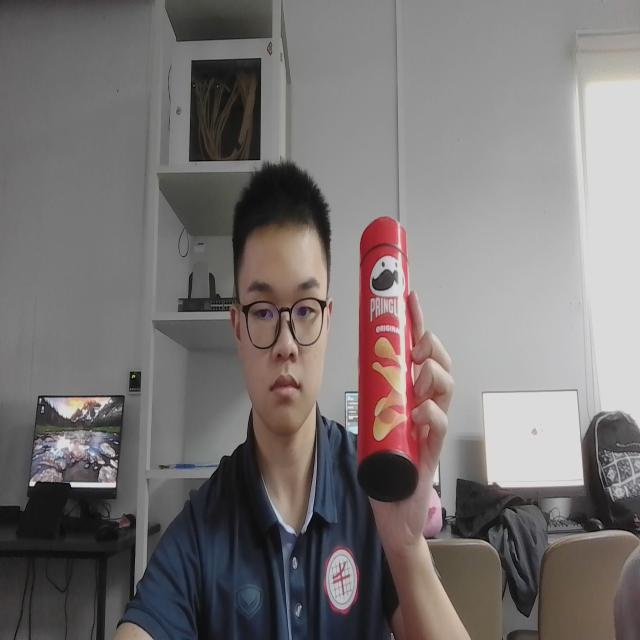water bottle: (355, 210, 421, 507)
